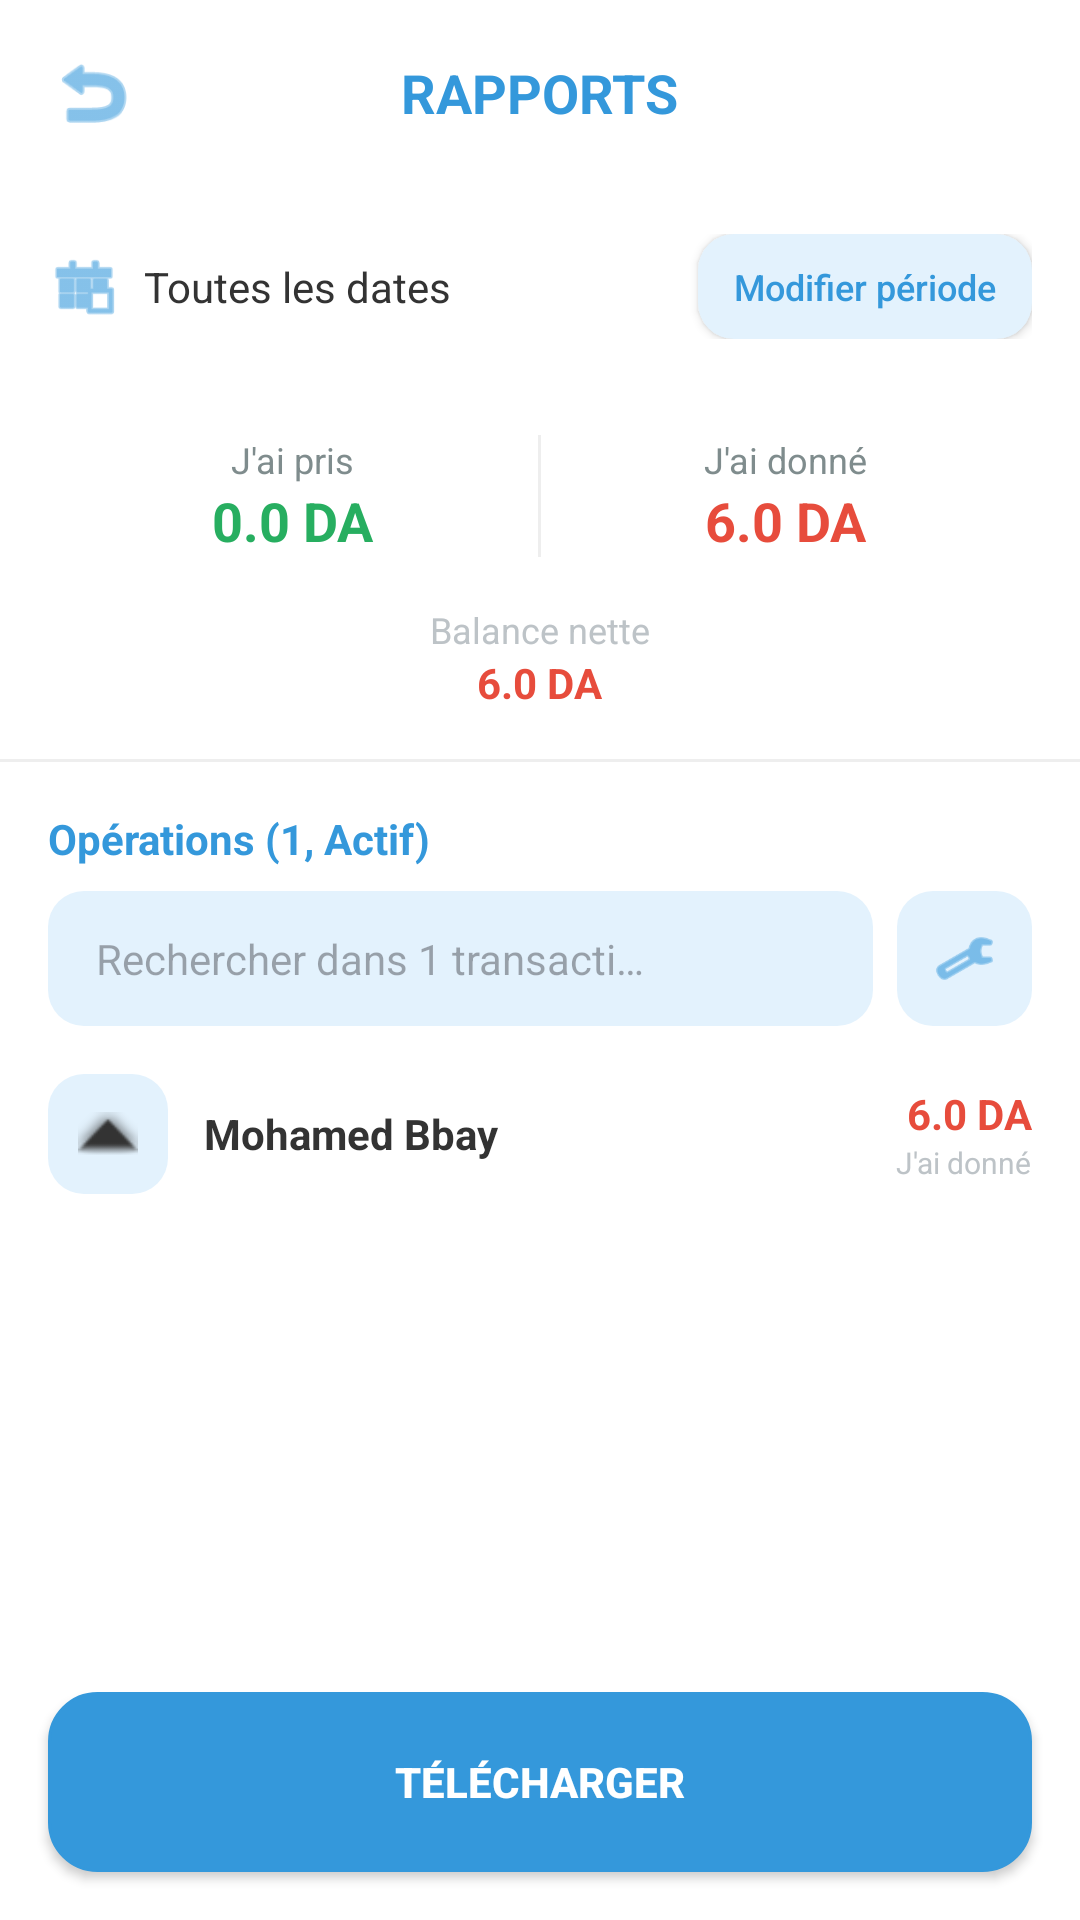

Locate icon controls on the screen. Image size 1080*1920, boxes as {"left": x1, "top": y1, "right": x2, "bottom": y2}.
arrow up float: {"left": 48, "top": 1074, "right": 168, "bottom": 1194}
preferences: {"left": 897, "top": 891, "right": 1032, "bottom": 1026}
revert: {"left": 62, "top": 64, "right": 127, "bottom": 123}
today: {"left": 55, "top": 260, "right": 114, "bottom": 315}
